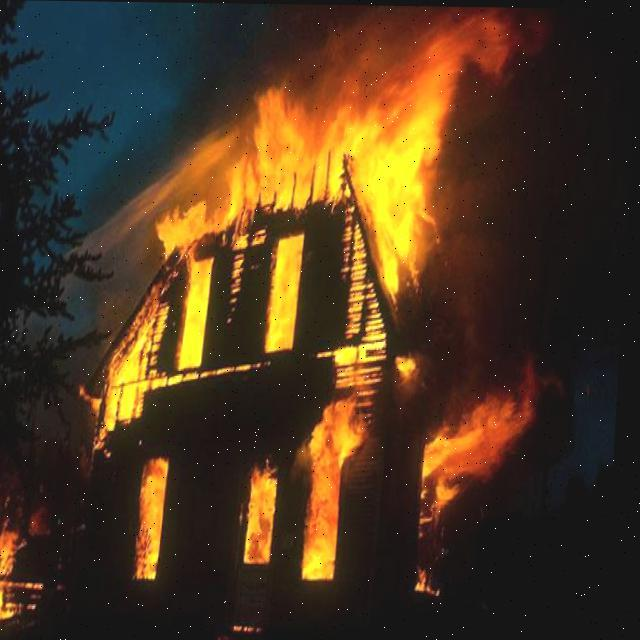Fire: (0, 34, 540, 624)
